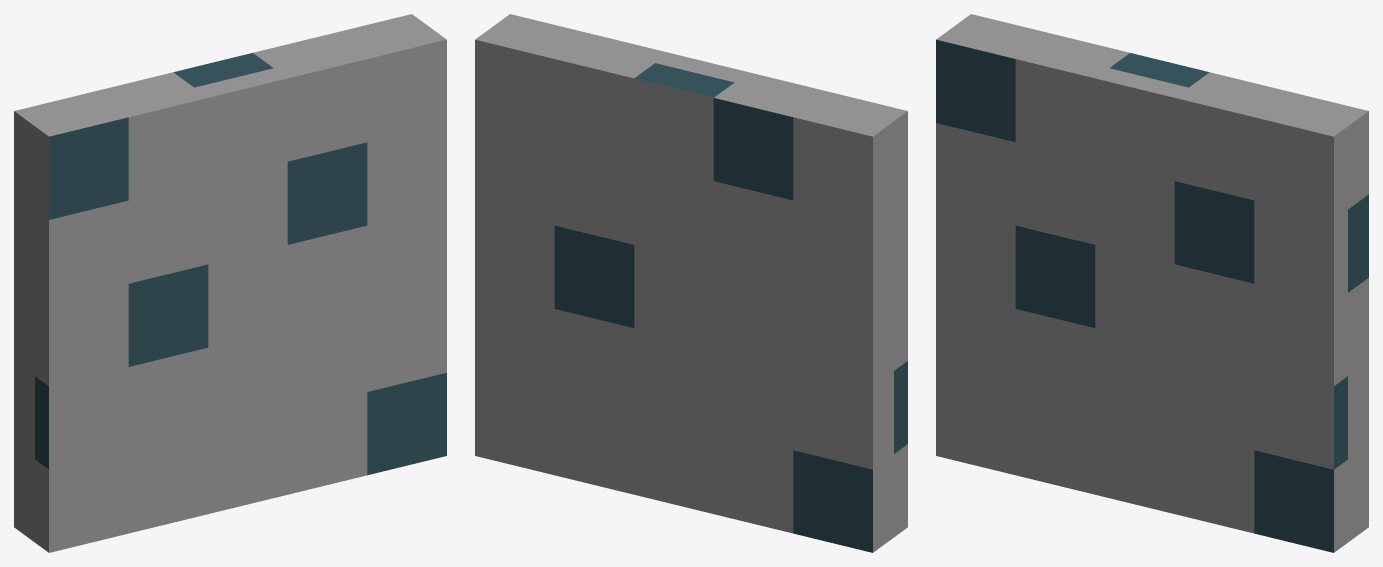
File: Parede.fbx
3 views of the same model, side by side, from view 1: azimuth 30°, elevation 25°; view 2: azimuth 150°, elevation 25°; view 3: azimuth 330°, elevation 25° (orthographic).
Visible parts, largest first — view 1: Parede; view 2: Parede; view 3: Parede.
Part boxes in pixels (bbox=[...]): Parede: bbox=[14, 14, 446, 552]; Parede: bbox=[475, 14, 907, 552]; Parede: bbox=[936, 14, 1368, 552].
Bounding box in the file's own units: 200 × 200 × 30.5.
